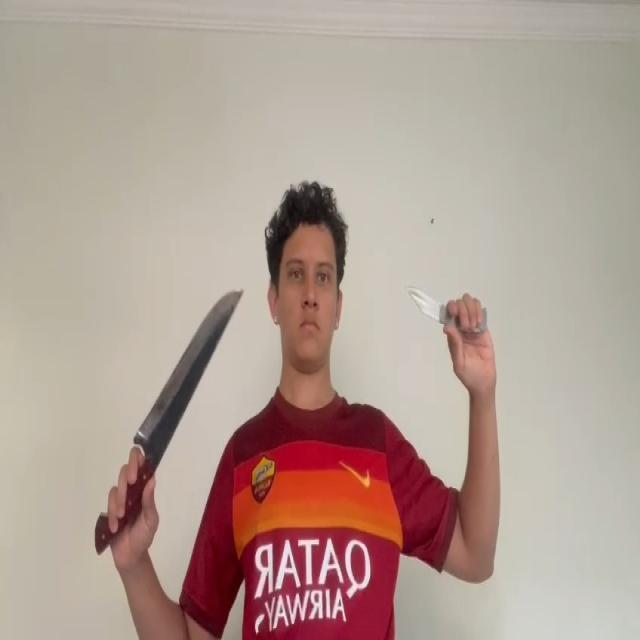knife: (135, 287, 243, 441), (405, 285, 443, 320)
